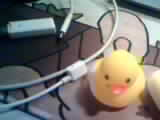duck: (80, 39, 148, 105)
